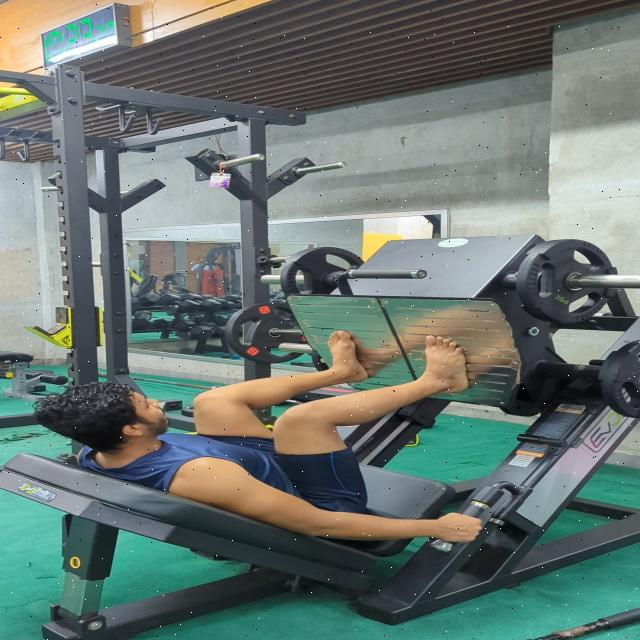Normal_LegPress: (24, 323, 498, 562)
